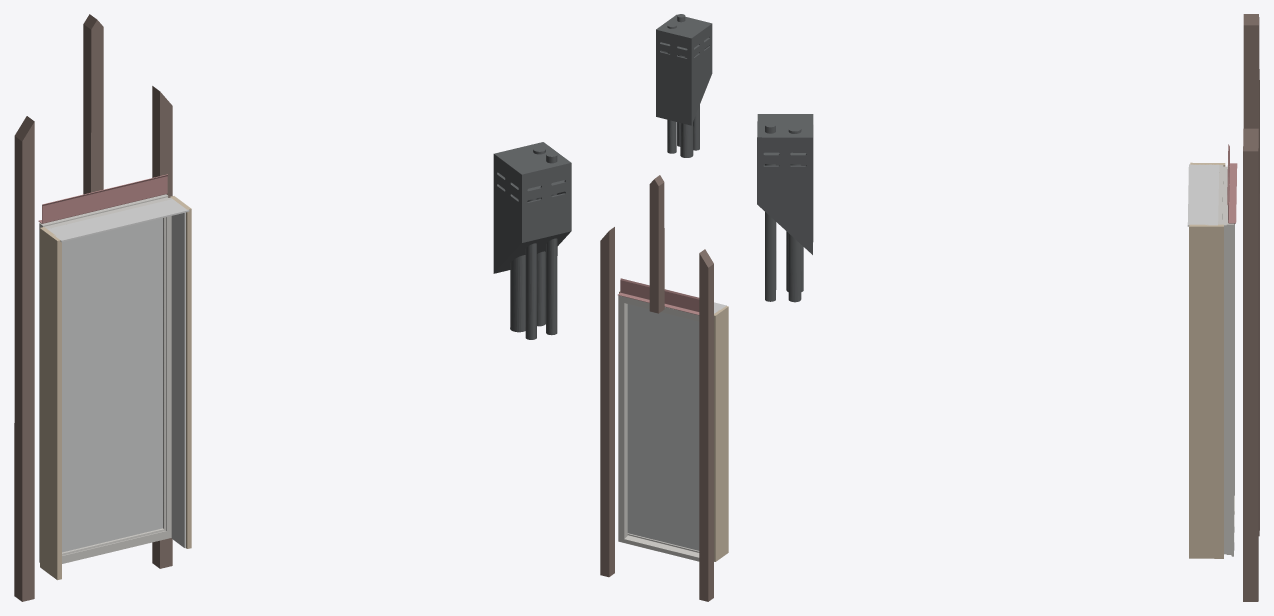
3 views of the same model, side by side, from view 1: azimuth 30°, elevation 25°; view 2: azimuth 150°, elevation 25°; view 3: azimuth 270°, elevation 25° (orthographic). The views are drawn at different scales.
Bounding box in the file's own units: 2.44 × 4.37 × 3.6.
